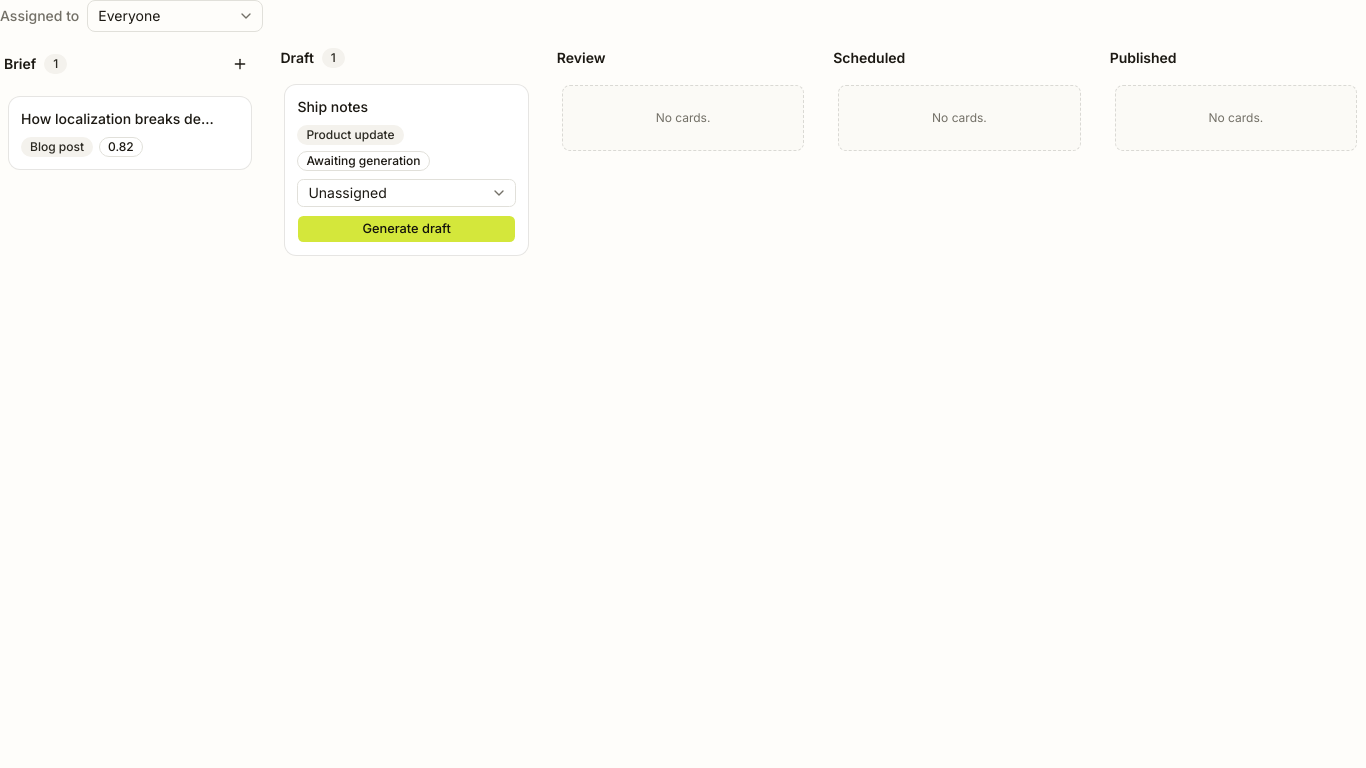
Scenario: the Generate button on a piece card › opens the generation modal on the piece it just started
Click the button "Generate draft". click: (407, 229)
box: 297,215 -> 516,243
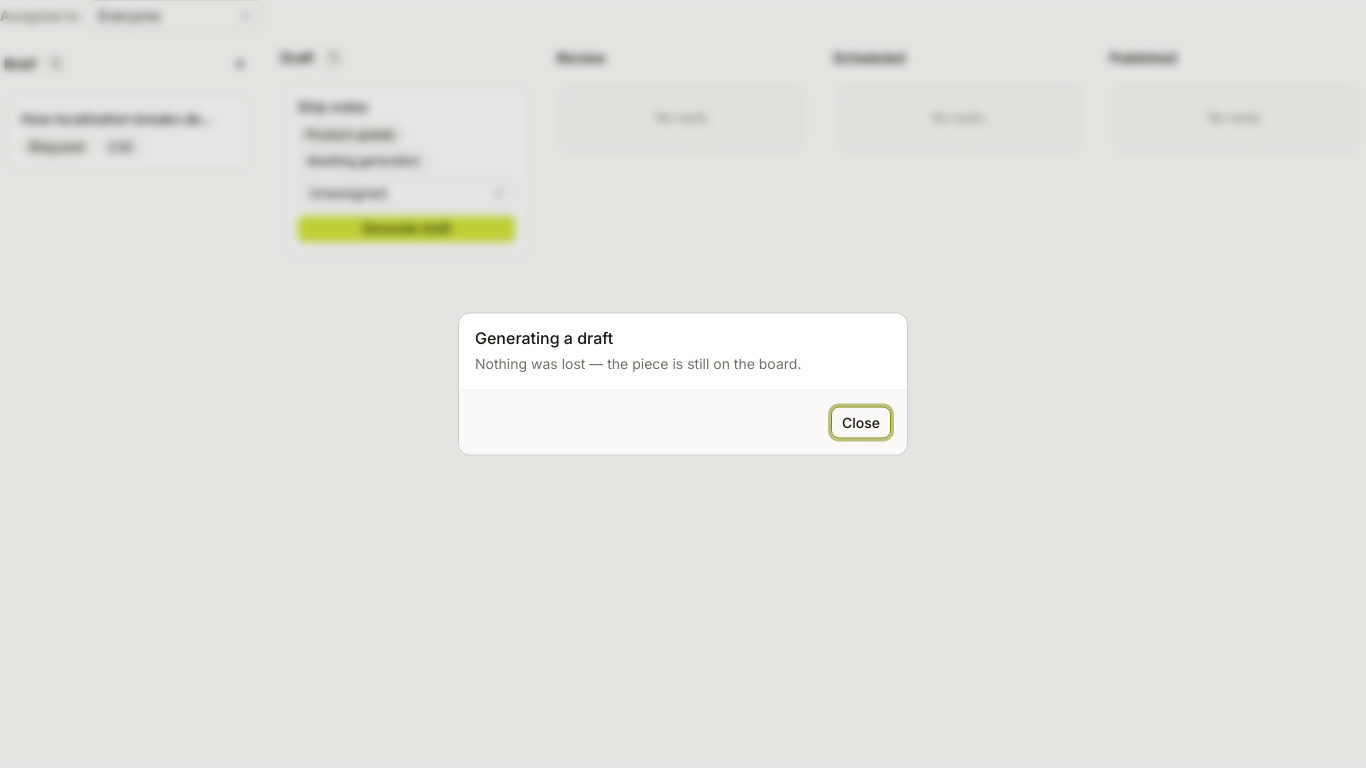
Now the heading "Generating a draft" is shown, box 475,328 -> 613,348
